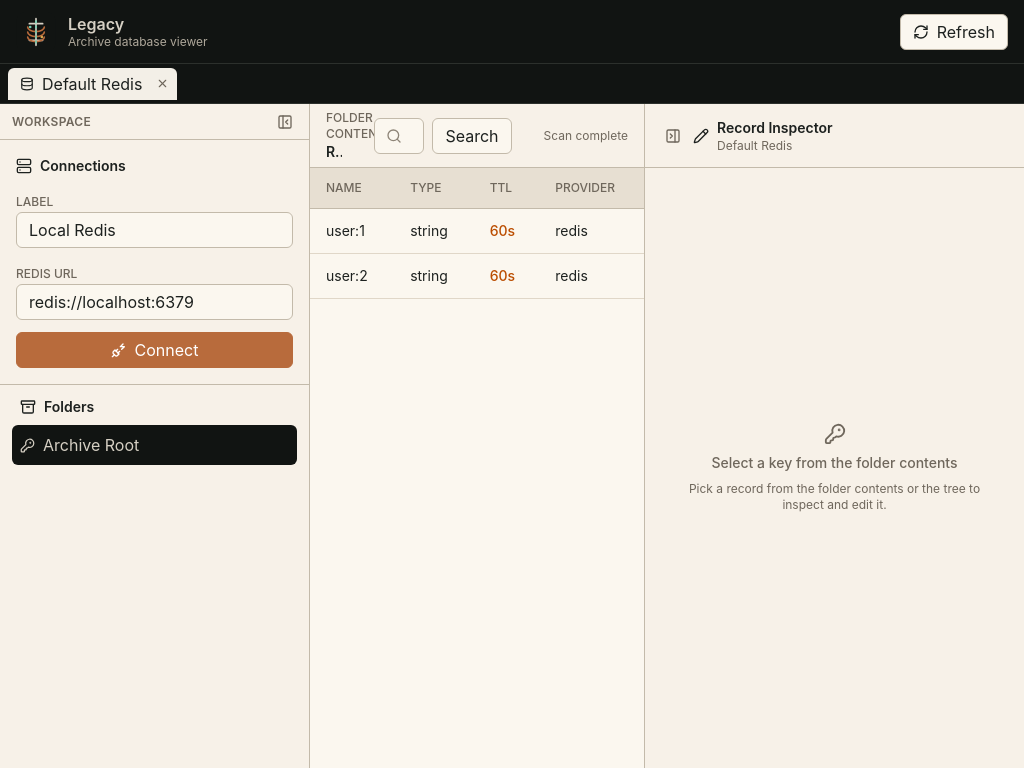
DatabaseWorkbench › discards the previous inspection payload when the selection changes
Click the button with aria-label "inspect user:1": (352, 231) x1=310 y1=209 x2=394 y2=253
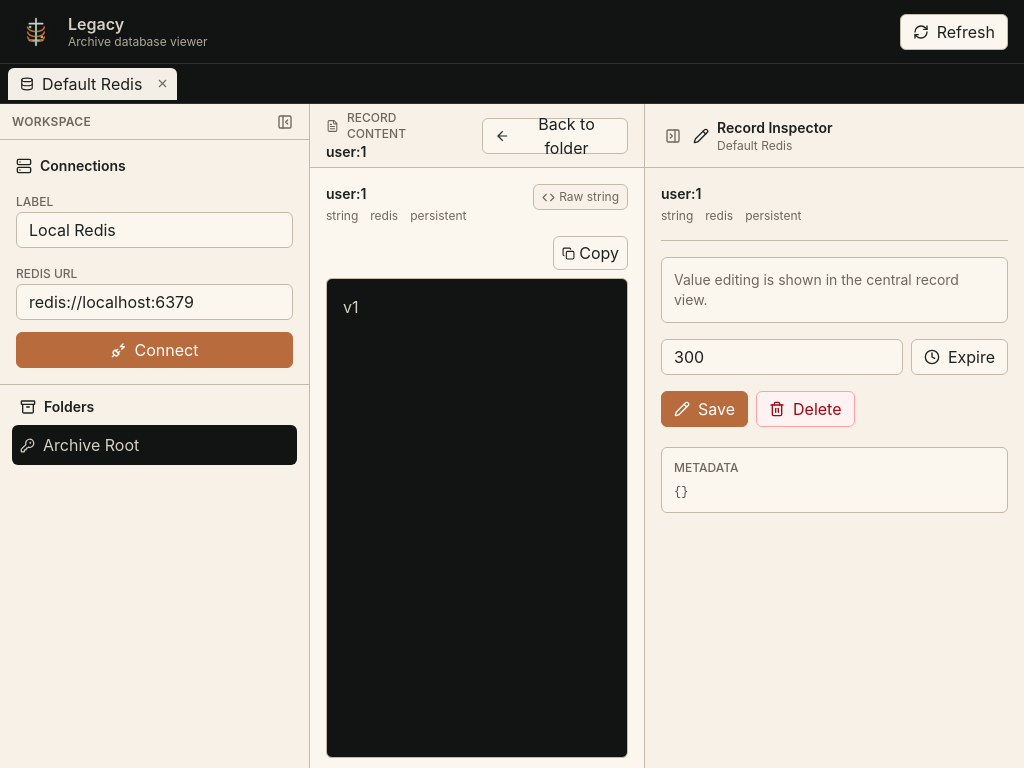
Now the text box showing "v1" is shown, box x1=326 y1=278 x2=628 y2=758
Click the button "Back to folder": (555, 136) x1=482 y1=118 x2=628 y2=154
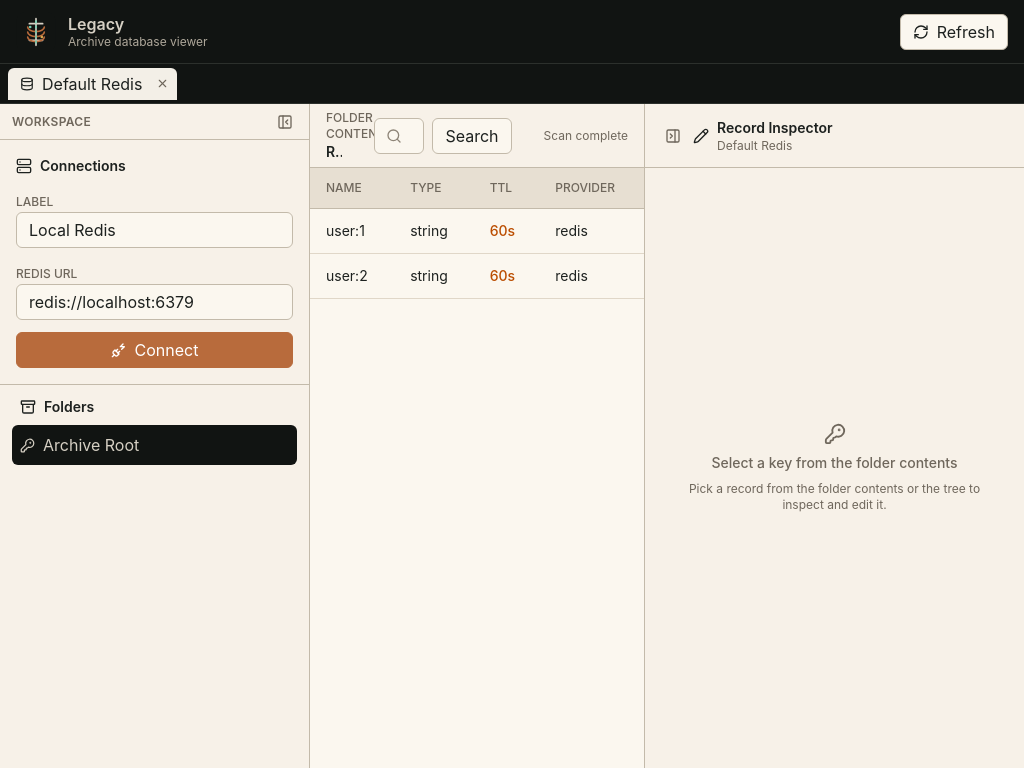
Click the button with aria-label "inspect user:2": (352, 276) x1=310 y1=254 x2=394 y2=298
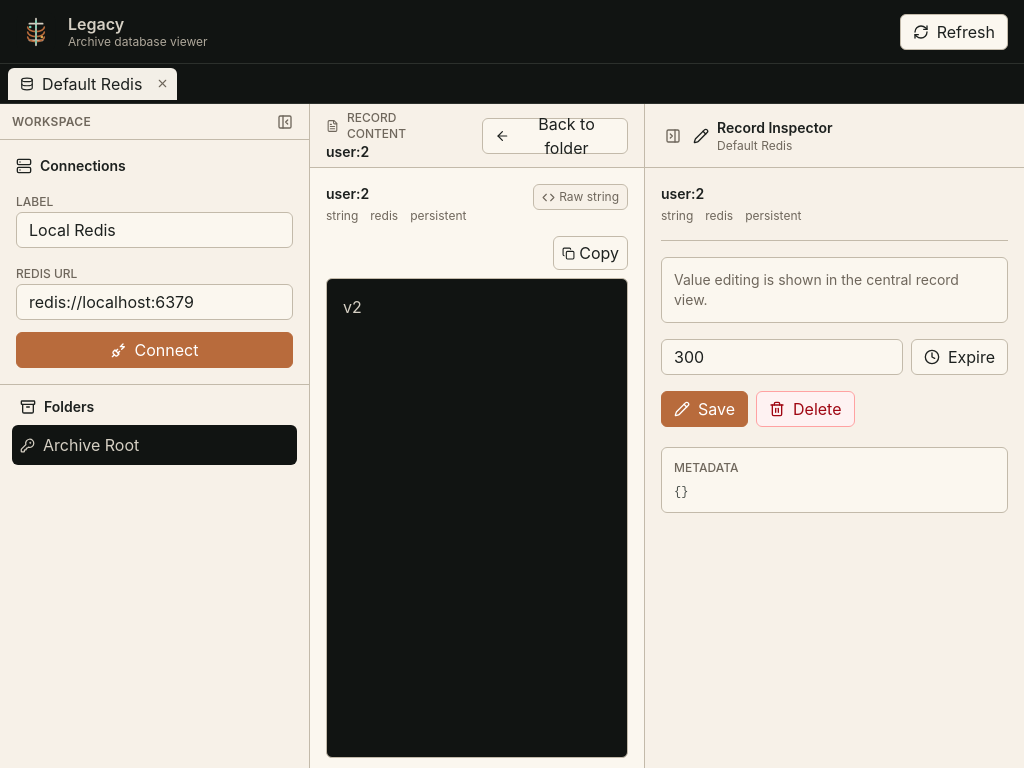
Now the text box showing "v2" is shown, box x1=326 y1=278 x2=628 y2=758
Click the button "Back to folder": (555, 136) x1=482 y1=118 x2=628 y2=154
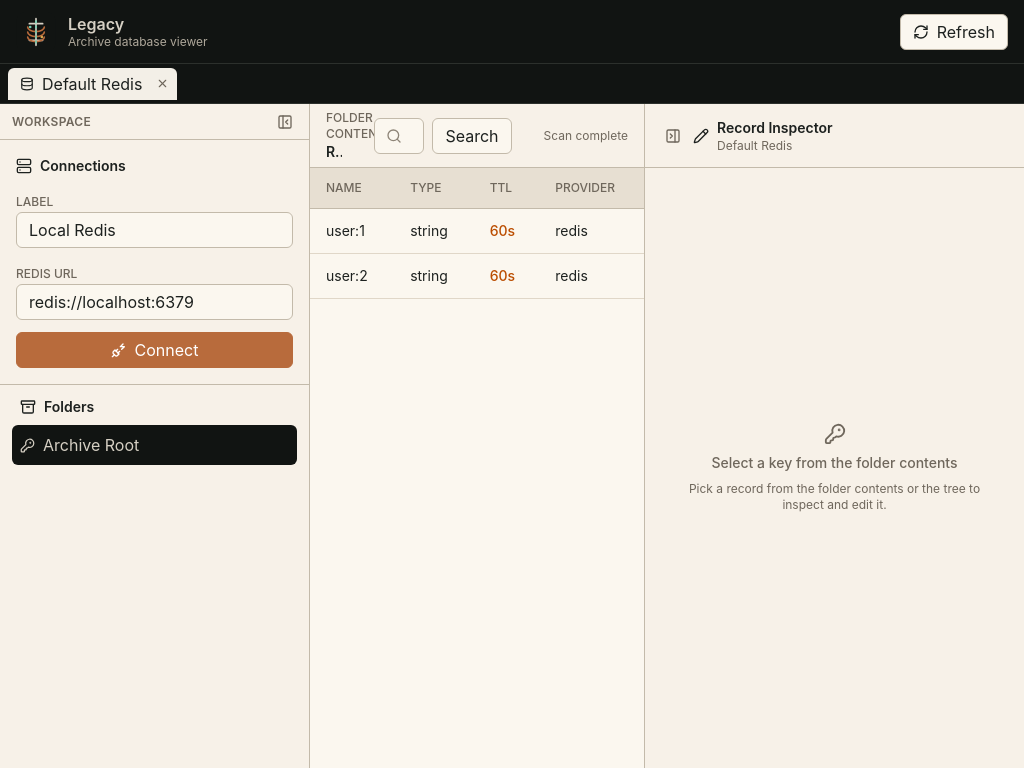
Click the button with aria-label "inspect user:1": (352, 231) x1=310 y1=209 x2=394 y2=253
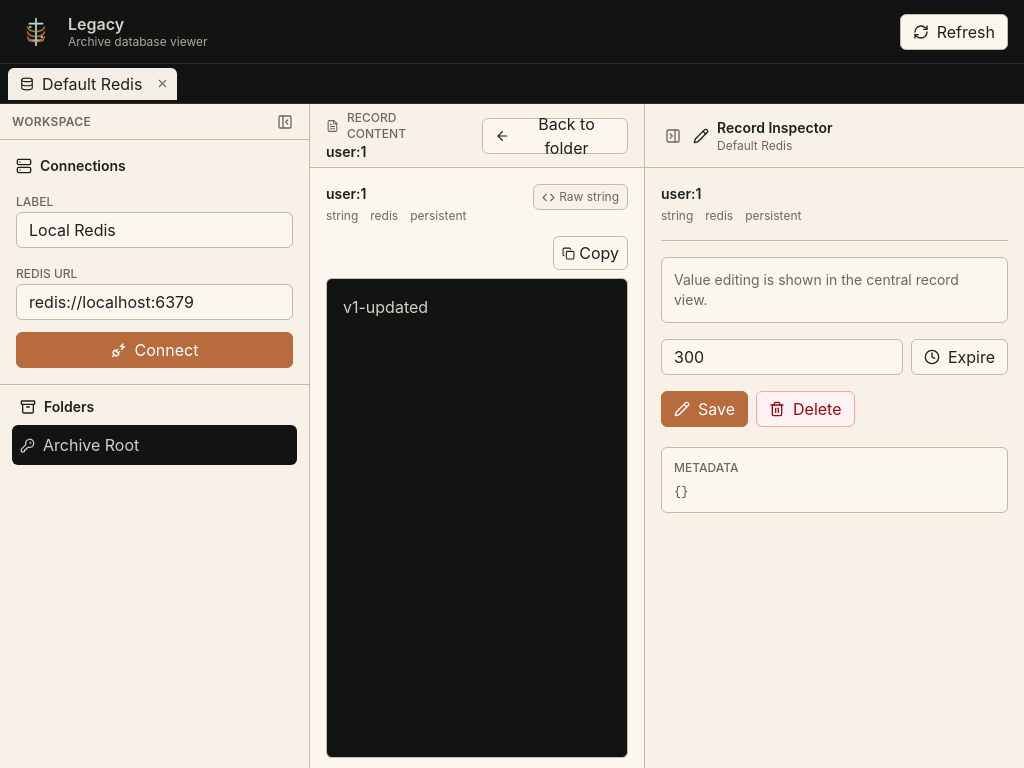
Now the text box showing "v1-updated" is shown, box x1=326 y1=278 x2=628 y2=758
